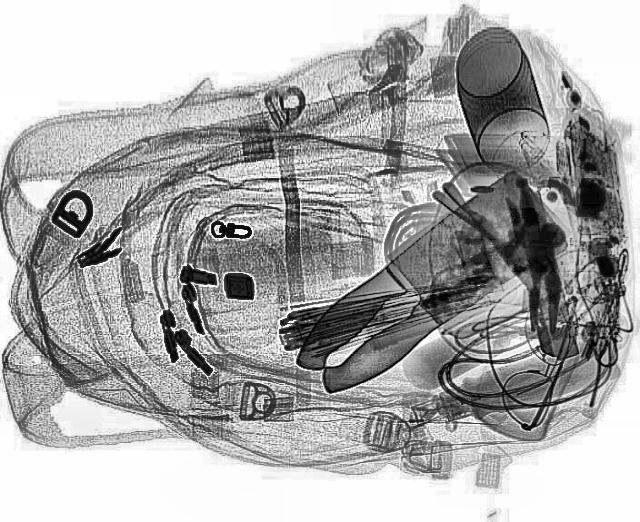Knife: (260, 166, 588, 400), (270, 168, 590, 404)
